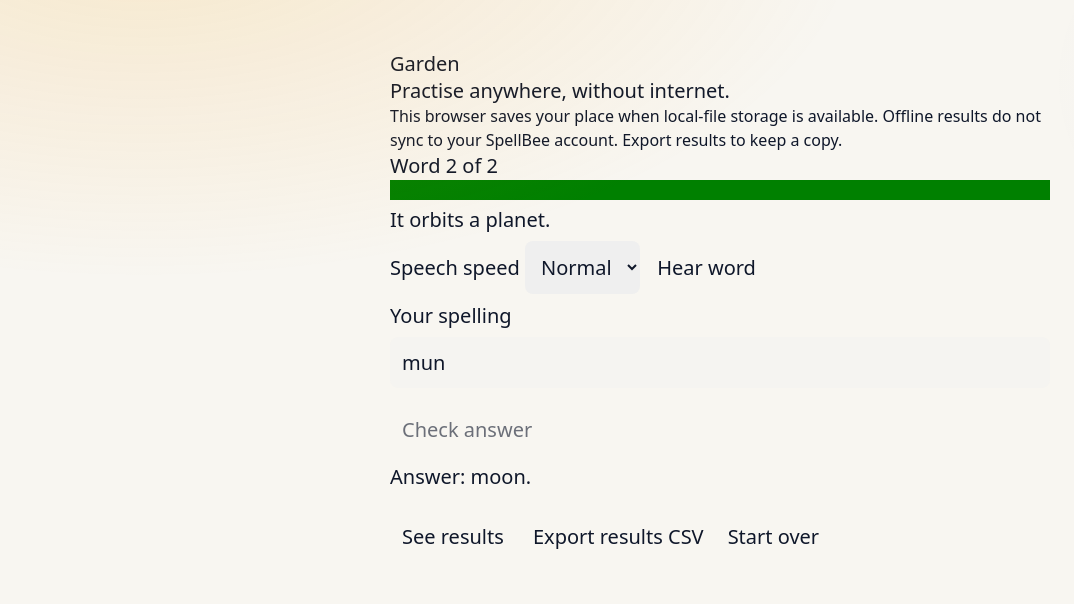
Scenario: offline practice resumes, rejects duplicate submissions and replays missed words
The width and height of the screenshot is (1074, 604).
Earlier steps of the test are not shown.
Click the button with id "next" at coordinates (453, 536), box [390,511,516,562]
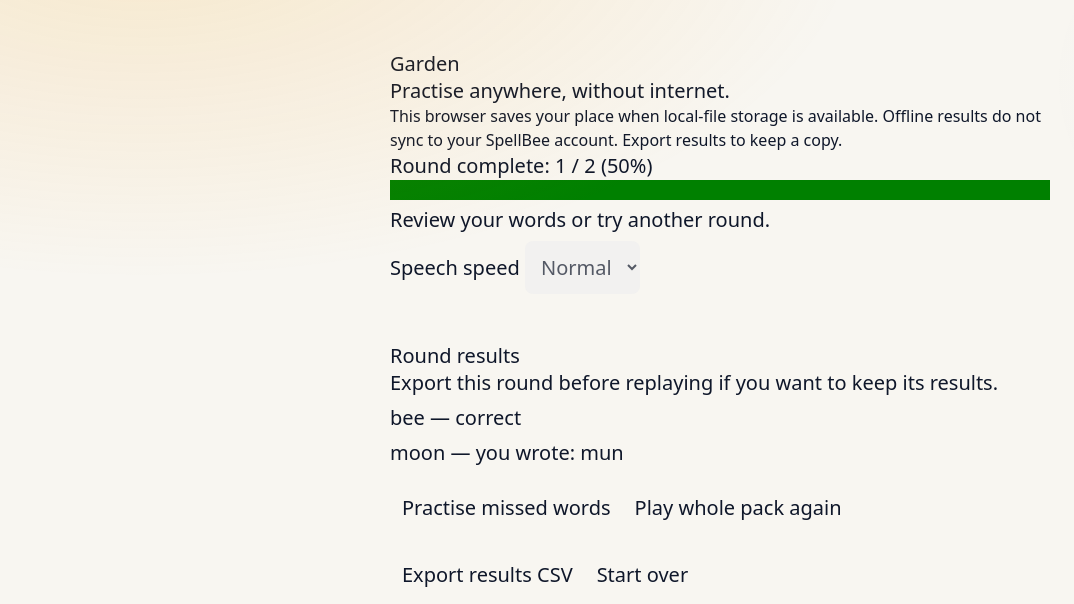
Expected: the message with id "count" shows "1 / 2", [390,152,652,179]
Expected: the list with id "review" shows "moon", [390,439,624,466]
Click the button with id "retry" at coordinates (506, 508), box [390,482,623,533]
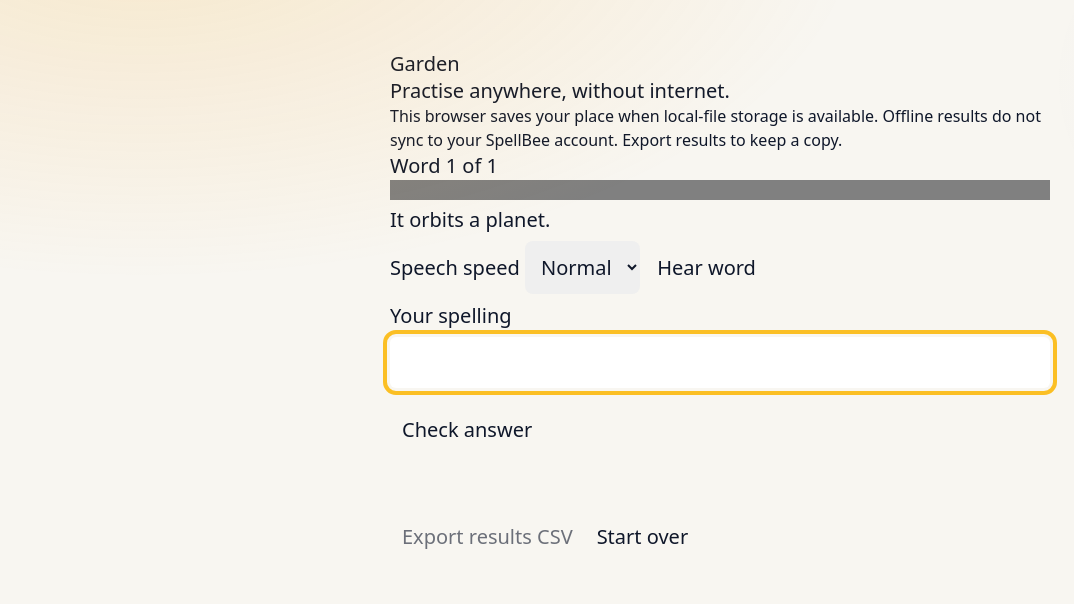
Expected: the message with id "count" reads "Word 1 of 1", [390,152,498,179]
Type "moon" into the field with id "answer" at coordinates (720, 362), box [390,337,1050,388]
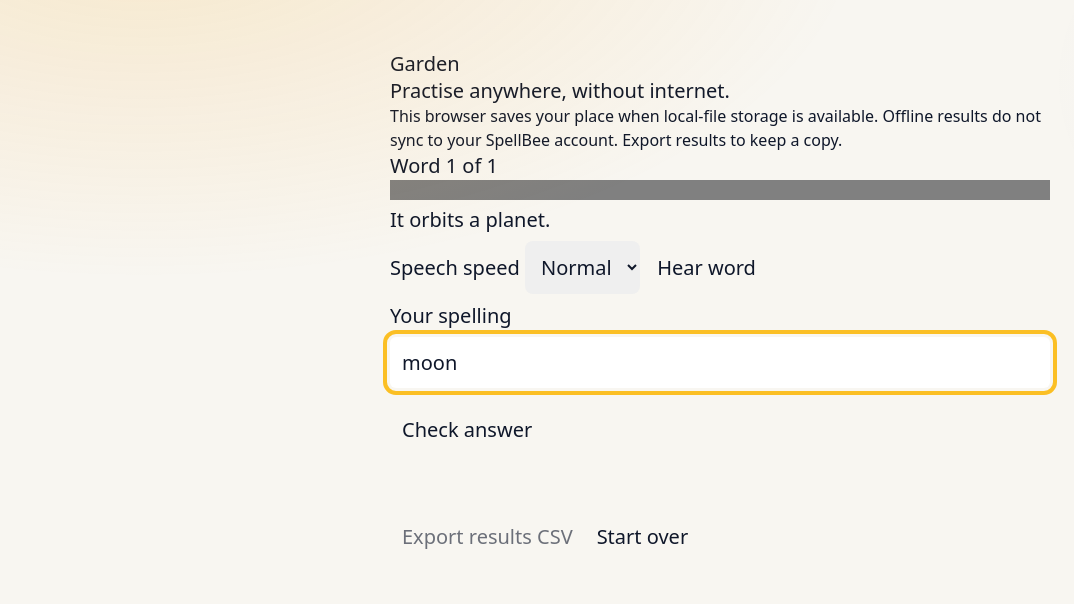
Submit the form with id "form", box [390,302,1050,463]
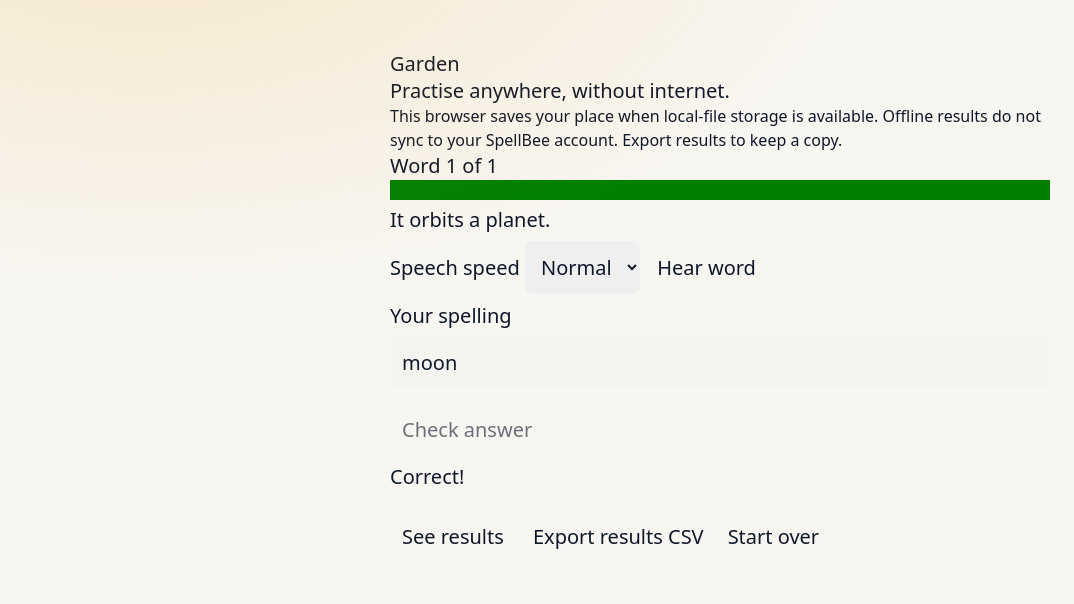
Click the button with id "next" at coordinates (453, 536), box [390,511,516,562]
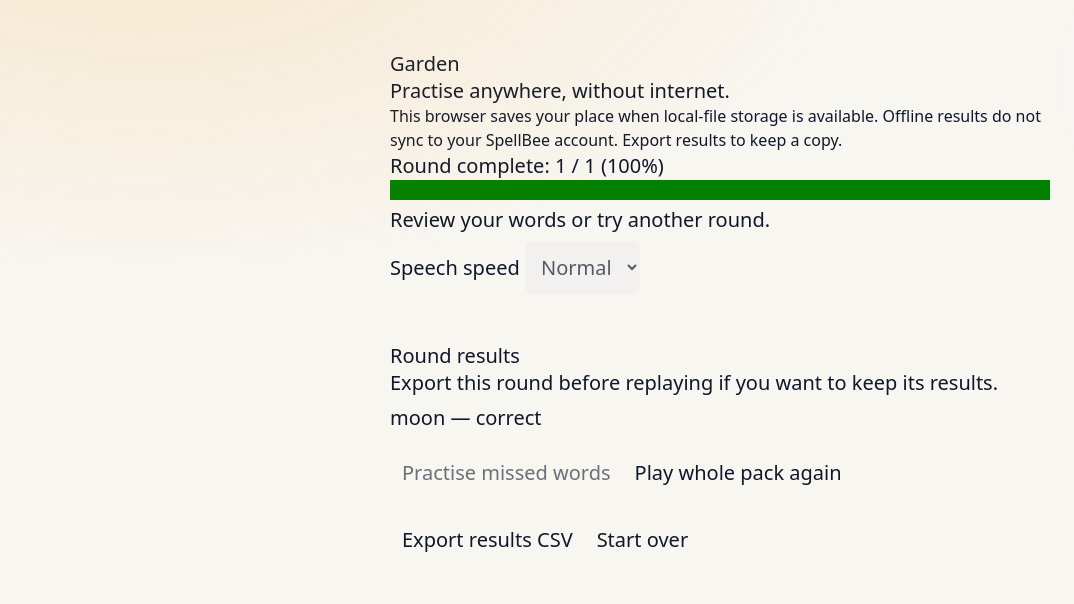
Expected: the message with id "count" shows "1 / 1", [390,152,664,179]
Expected: the button with id "retry" is disabled, [390,447,623,498]
Click the button with id "replay" at coordinates (738, 472), box [623,447,854,498]
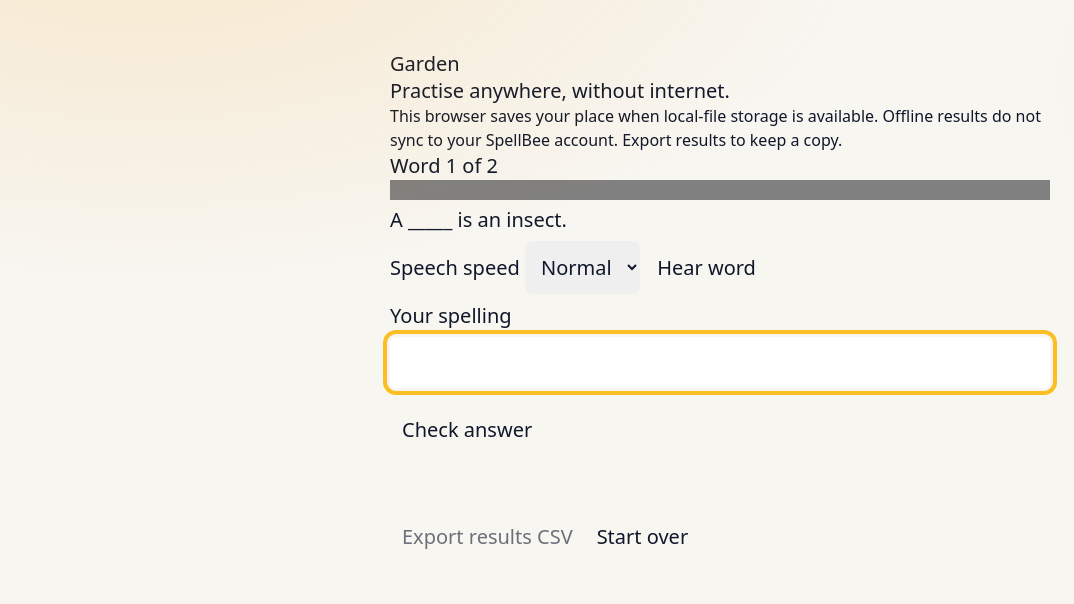
Expected: the message with id "count" reads "Word 1 of 2", [390,152,498,179]
